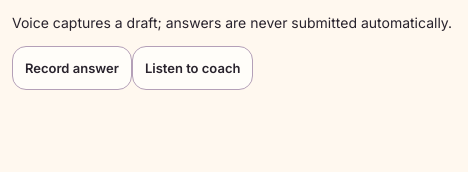
source module voice › records only by consent and returns recognized text as a draft using workspace capability
Later steps or results of the test are not shown.
Click the button "Record answer" at (72, 68), box [12,46,132,90]
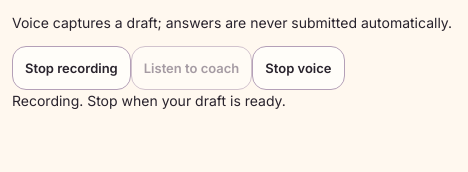
Now the button "Stop recording" is shown, box [12,46,131,90]
